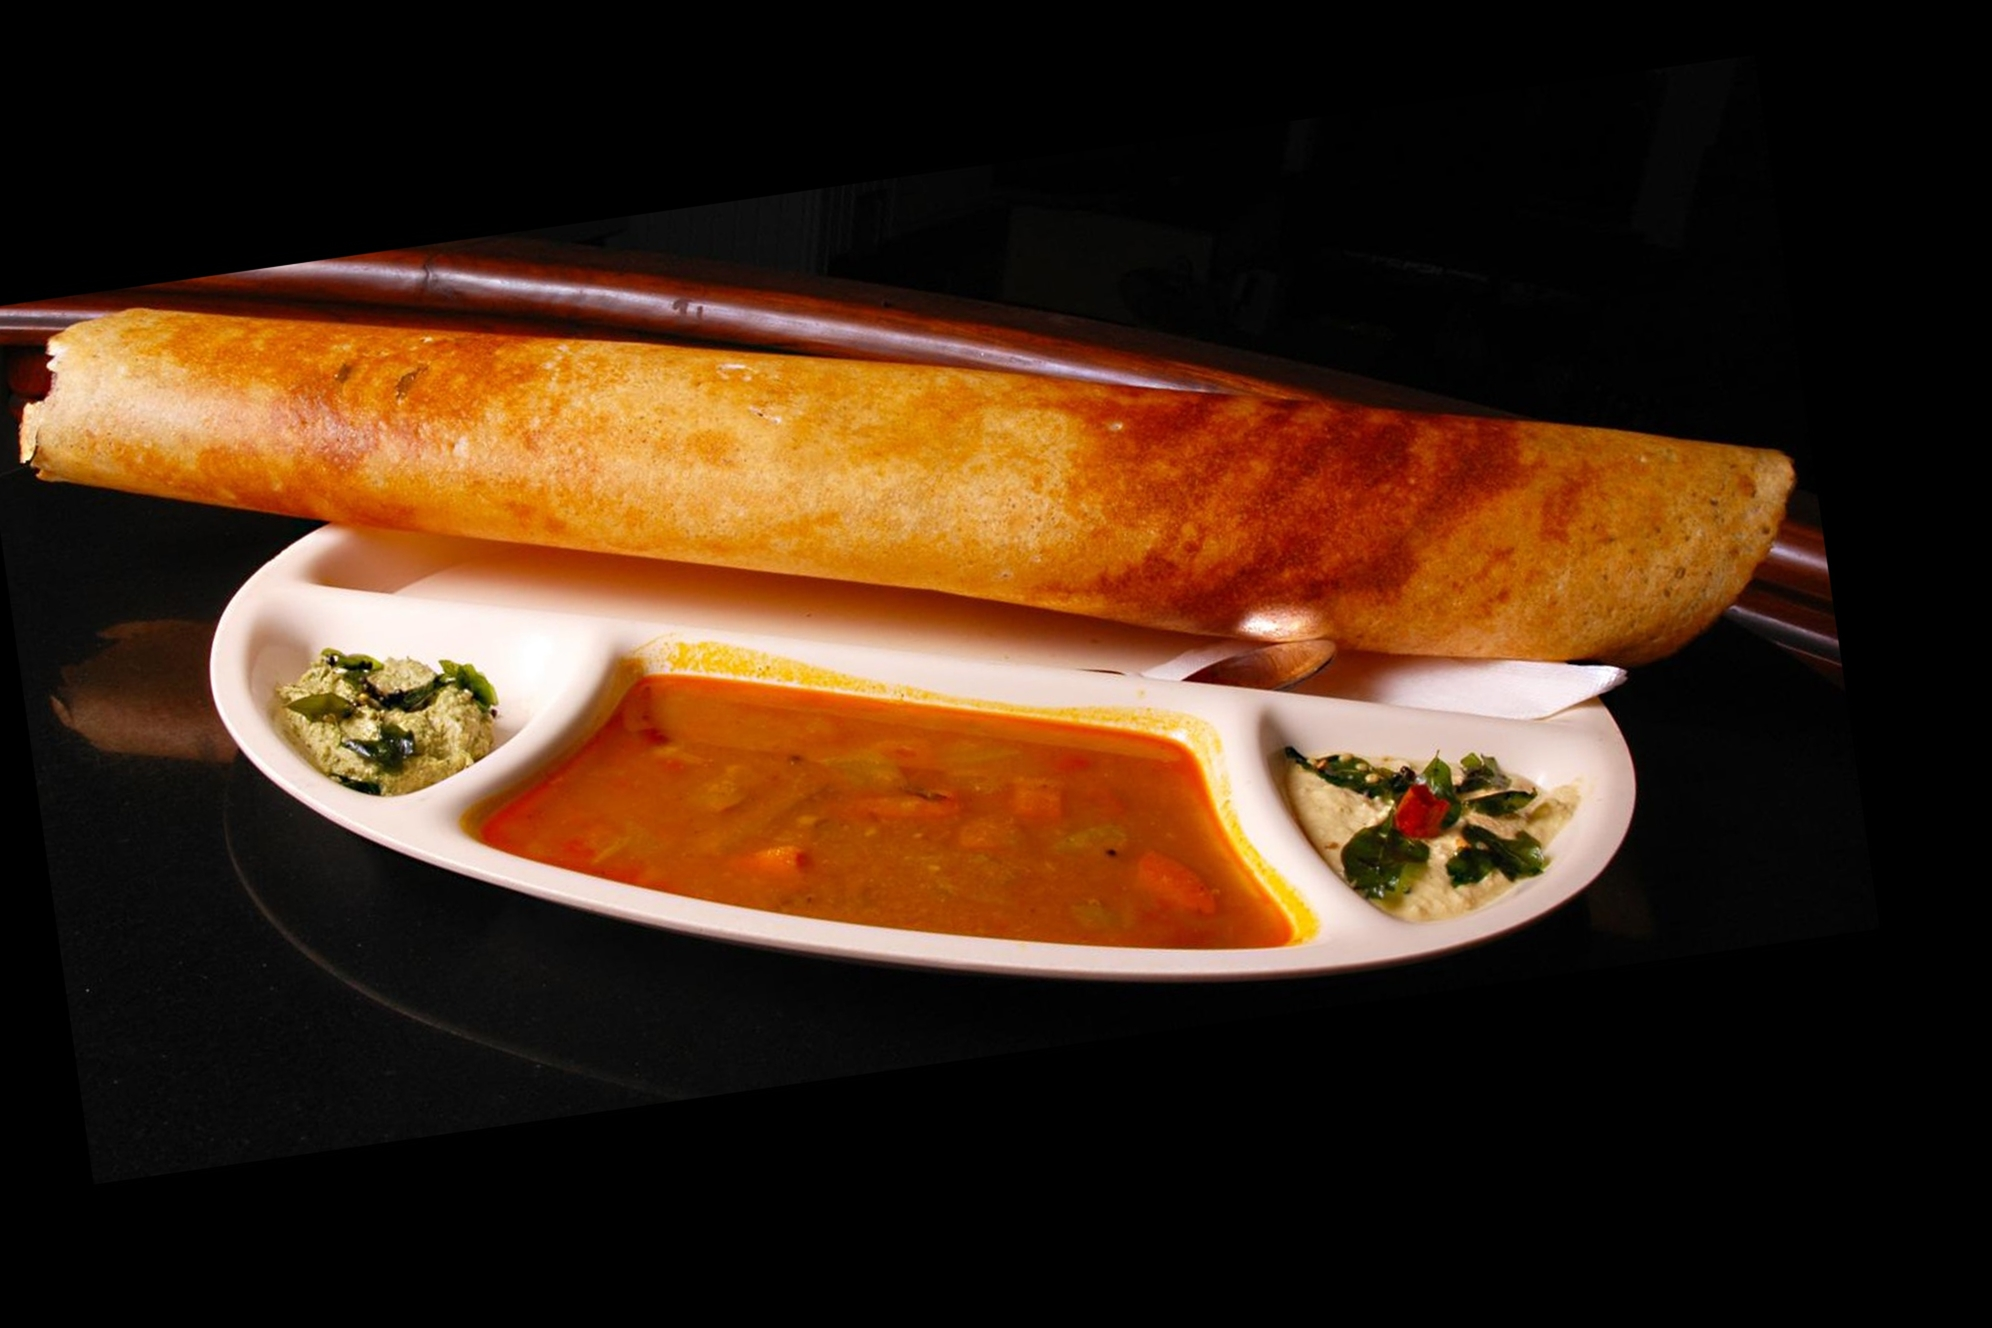dosa: (12, 280, 1799, 680)
